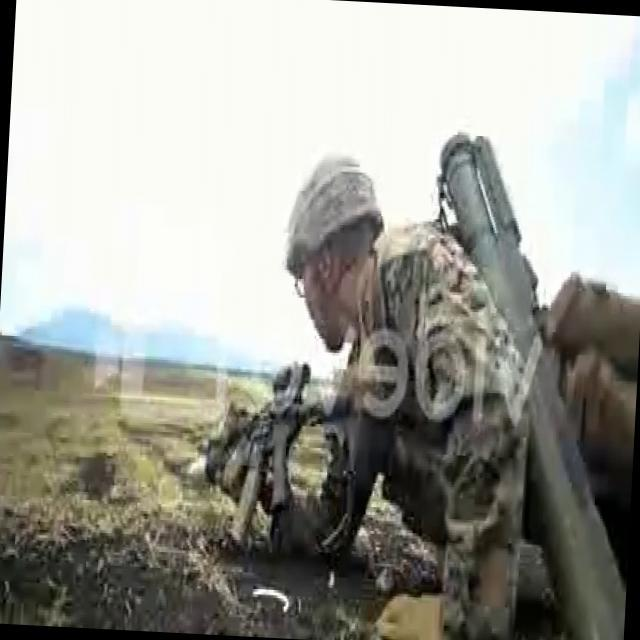rocket: (416, 134, 640, 640)
